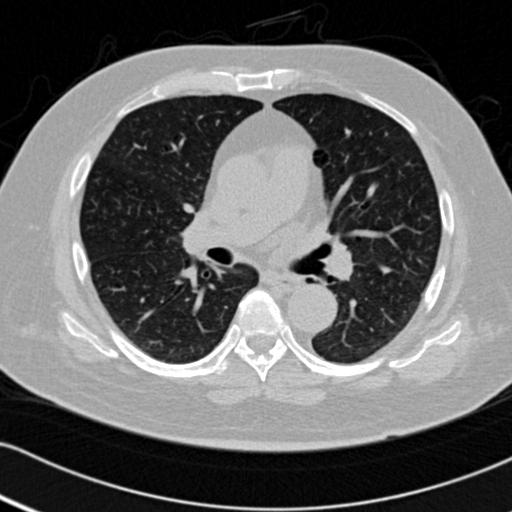nodule: (378, 263, 392, 277)
